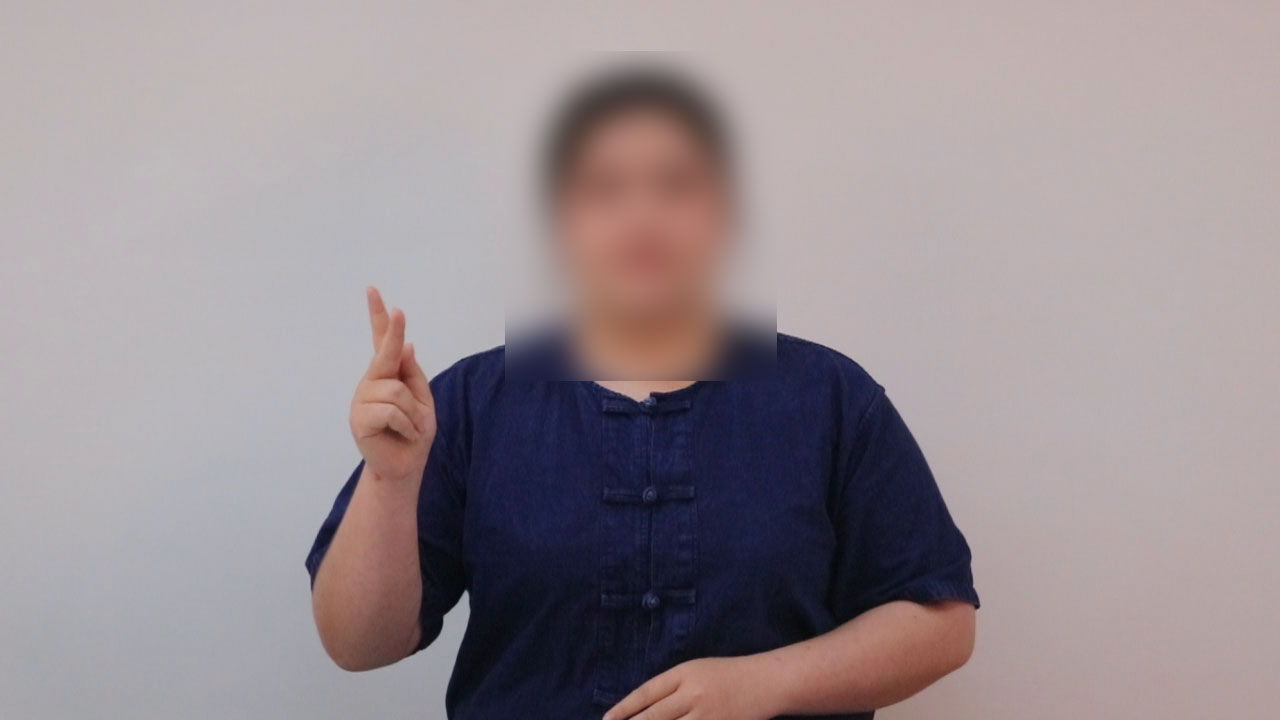ko: (324, 277, 464, 484)
